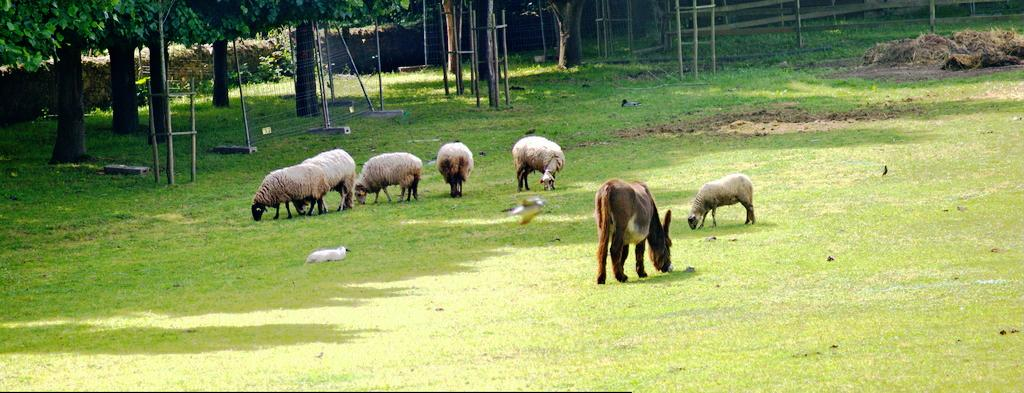Sheep: (249, 164, 329, 221), (688, 172, 757, 236), (289, 150, 356, 212), (348, 151, 422, 206), (510, 134, 567, 195), (434, 140, 474, 198)
